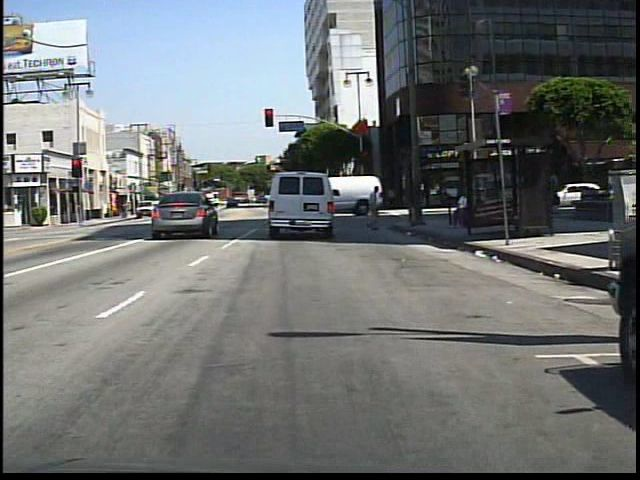person: (363, 182, 388, 235), (161, 192, 175, 218)
